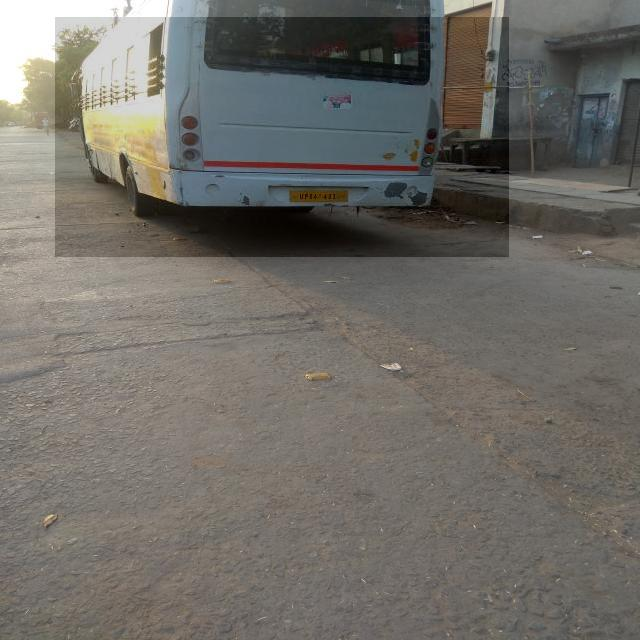Bus: (56, 18, 510, 258)
